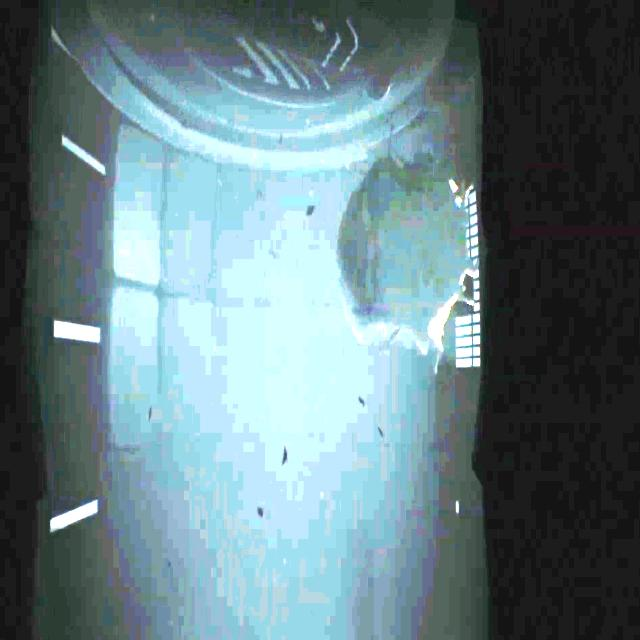blob: (339, 157, 480, 370)
